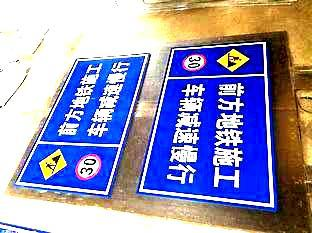sign: (154, 43, 274, 200), (24, 54, 137, 190)
